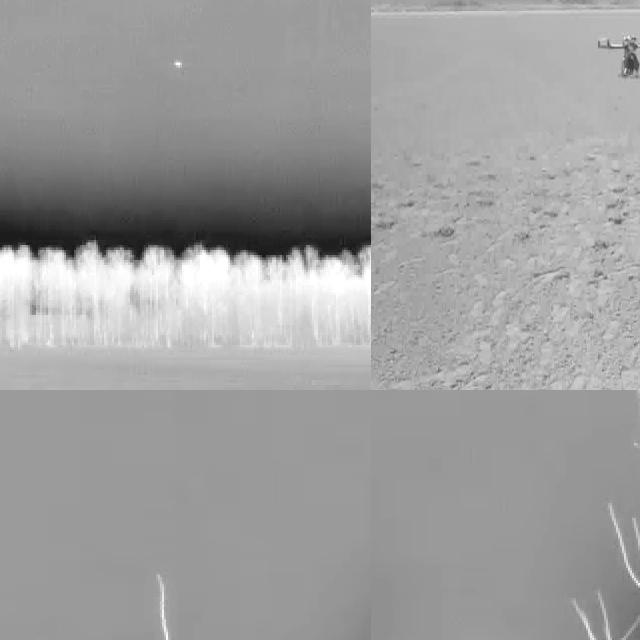0: (28, 629, 54, 640), (625, 438, 640, 455)
1: (159, 52, 189, 82)
drone: (597, 32, 640, 79)
